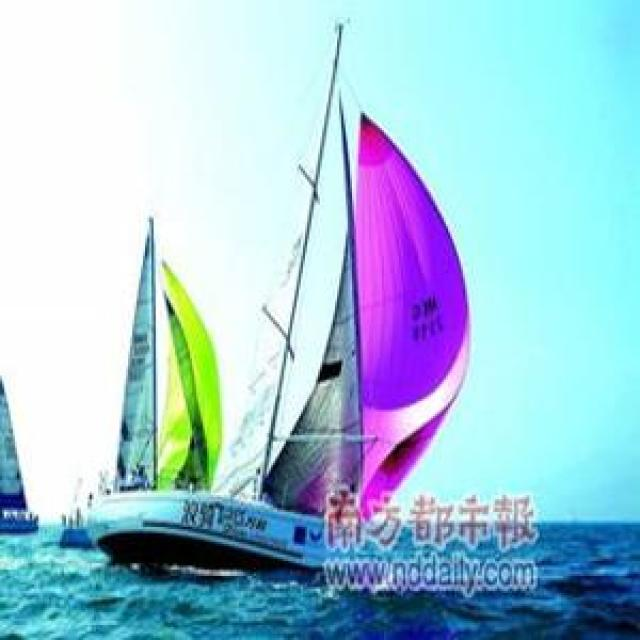sailboat: (91, 120, 475, 567)
